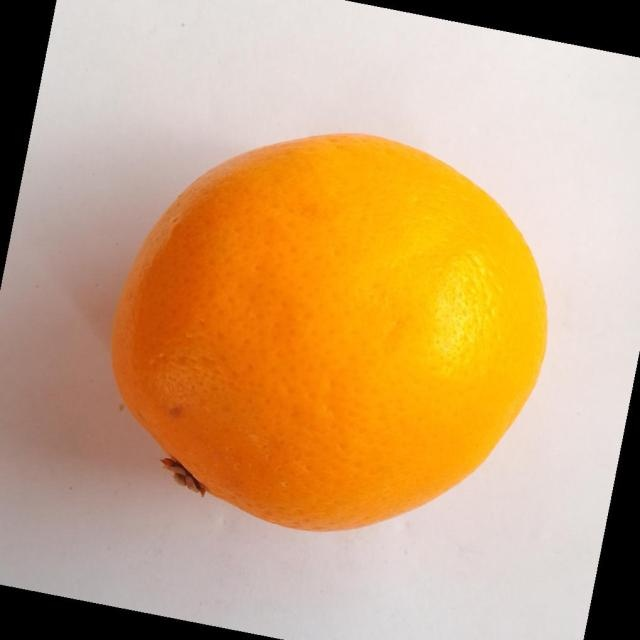agrume: (110, 131, 548, 532)
